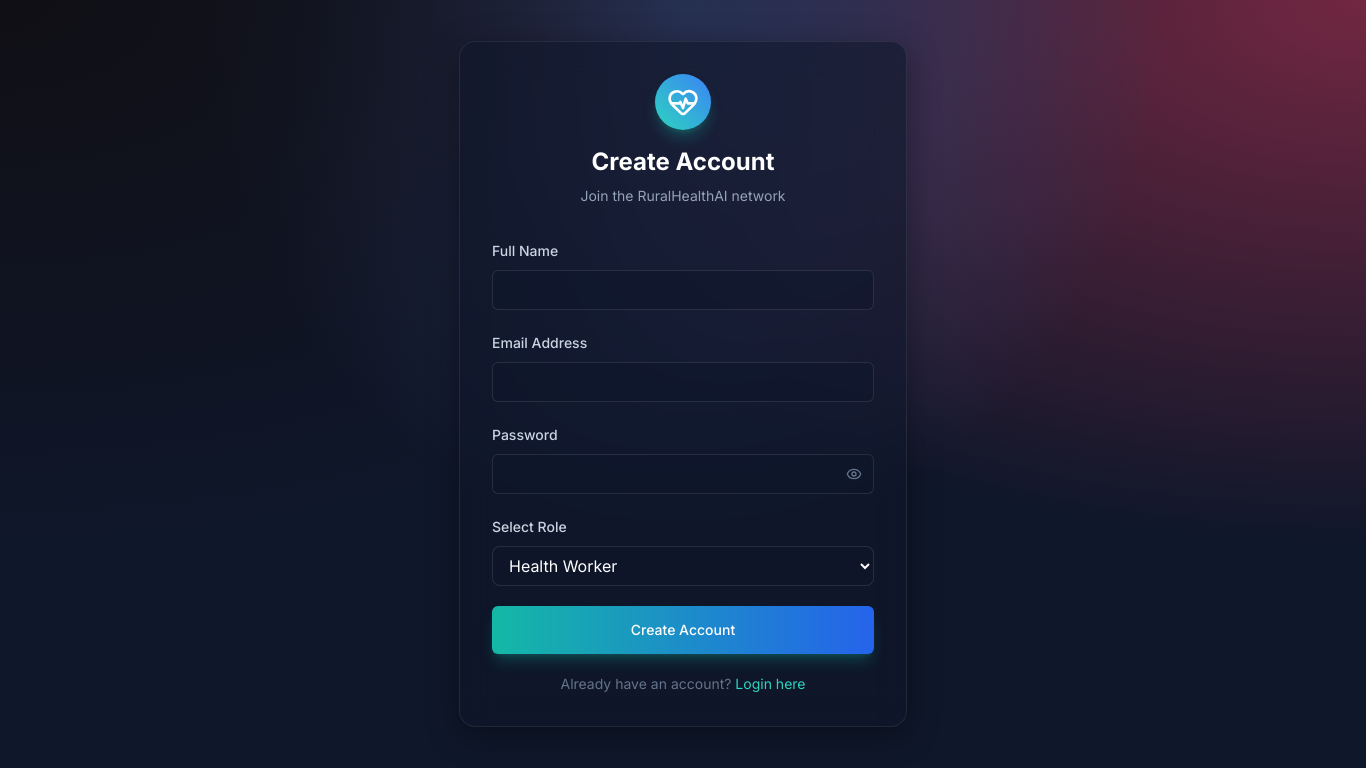
Test case: RegisterPage › shows error message on duplicate email registration
The width and height of the screenshot is (1366, 768).
Type "Existing User" into the field labelled "Full Name" at (683,290), box left=492, top=270, right=874, bottom=310
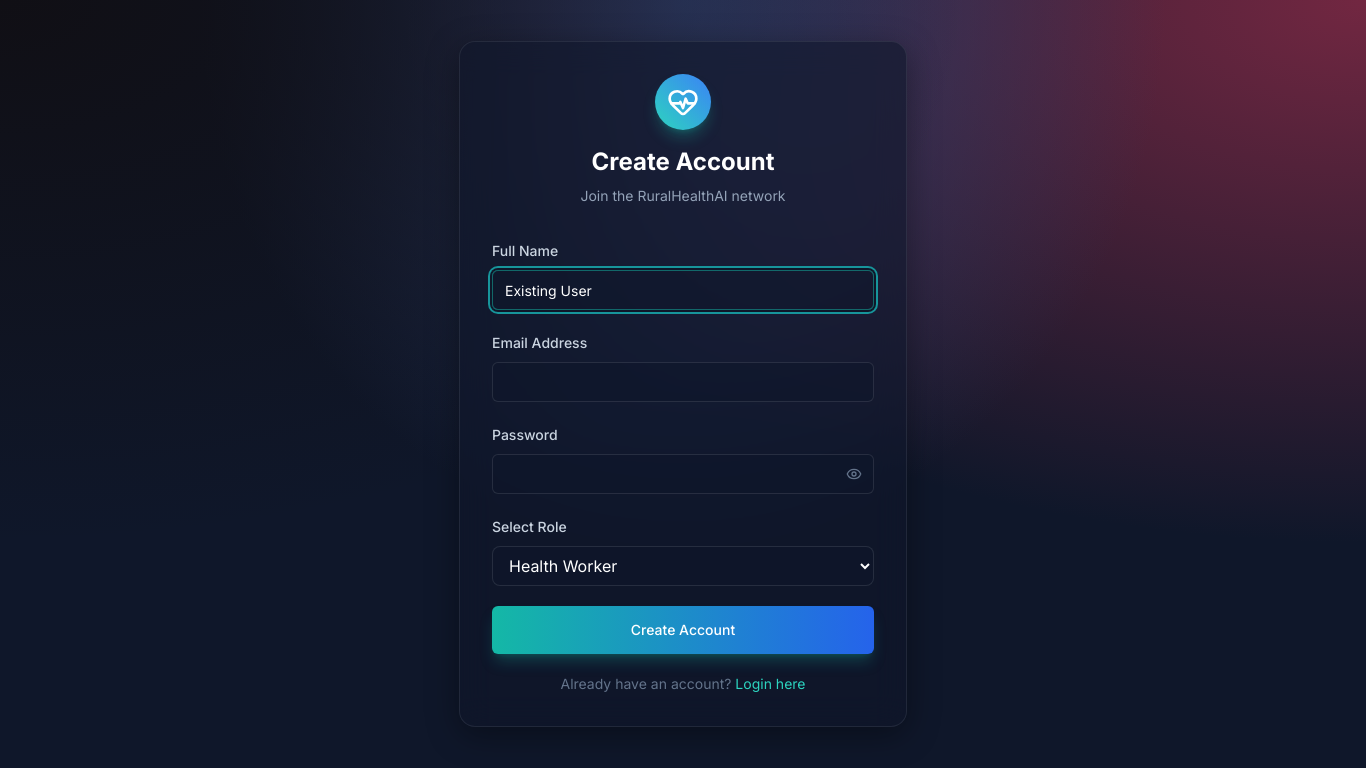
Type "existing@example.com" into the field labelled "Email Address" at (683,382), box left=492, top=362, right=874, bottom=402
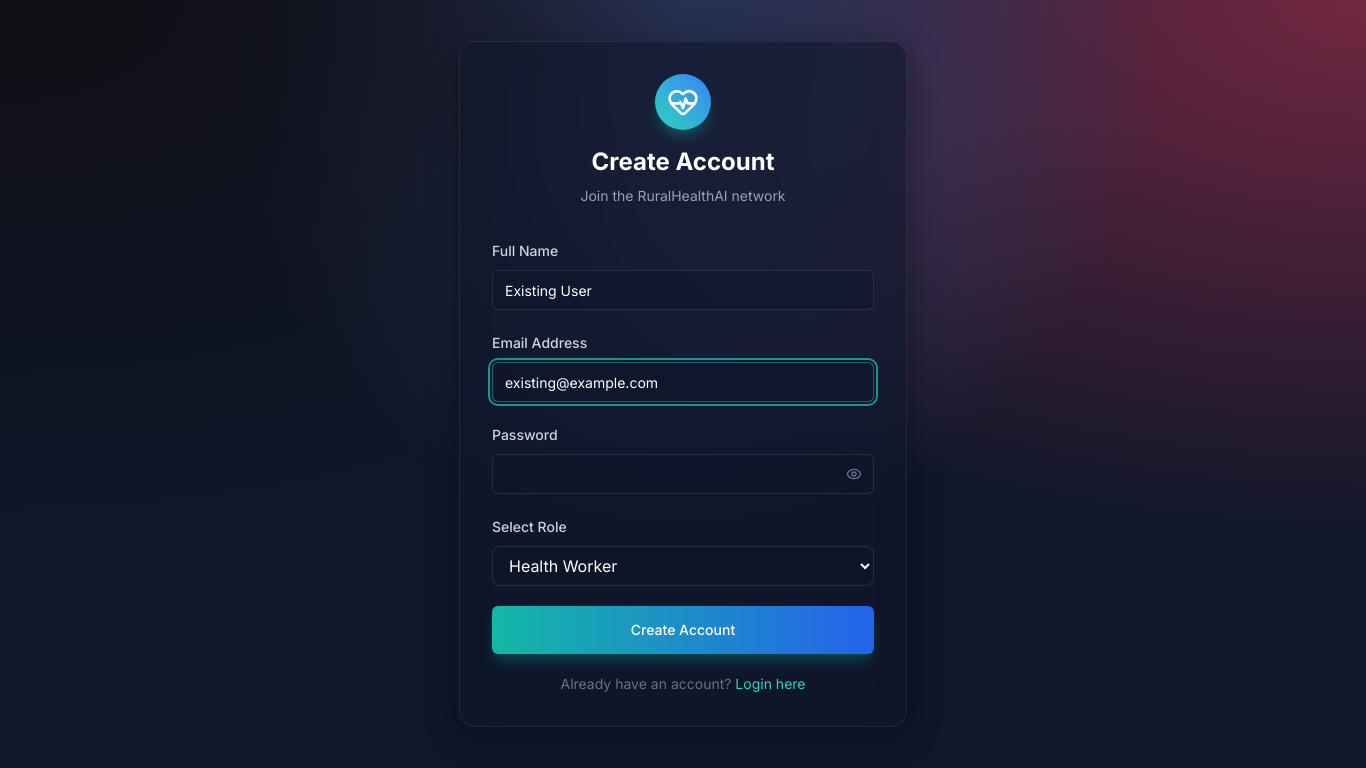
Type "password123" into the password field labelled "Password" at (683,474), box left=492, top=454, right=874, bottom=494
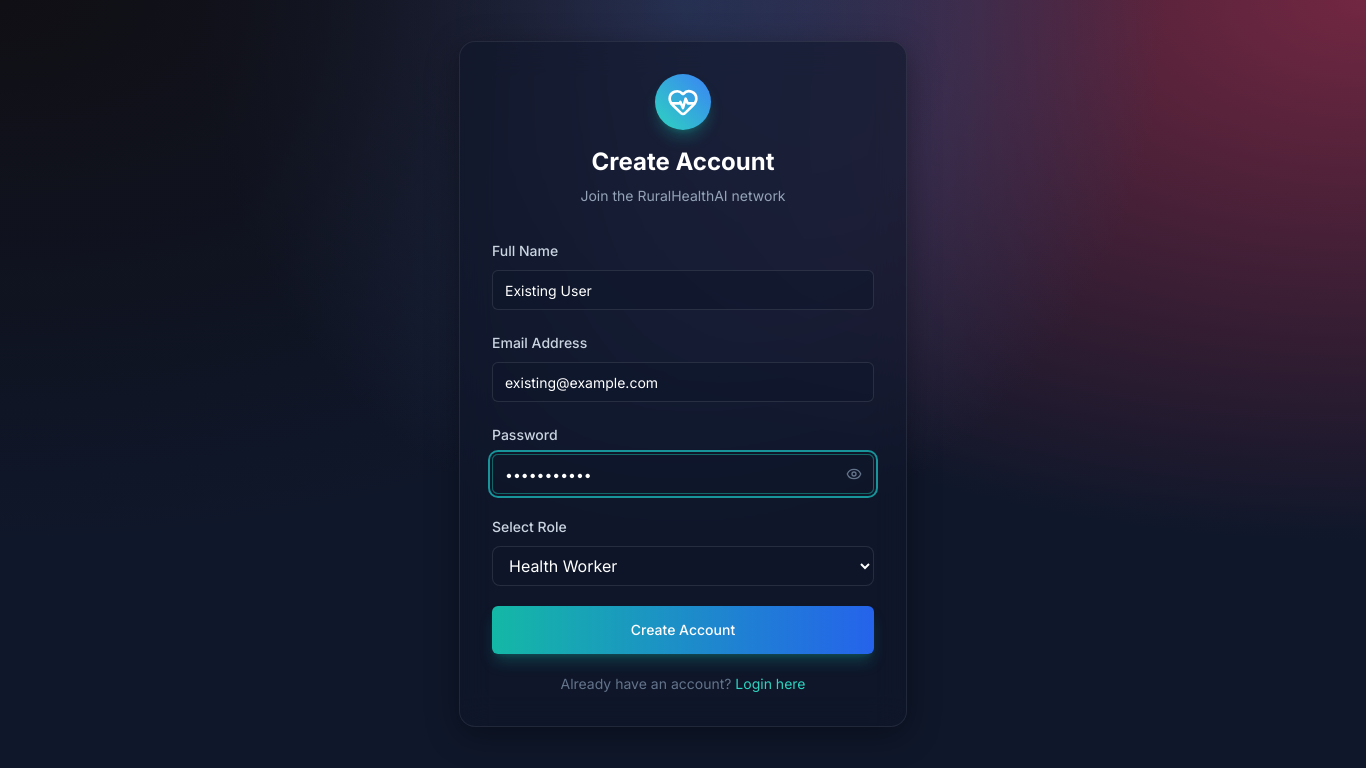
Click the button "Create Account" at (683,630), box left=492, top=606, right=874, bottom=654
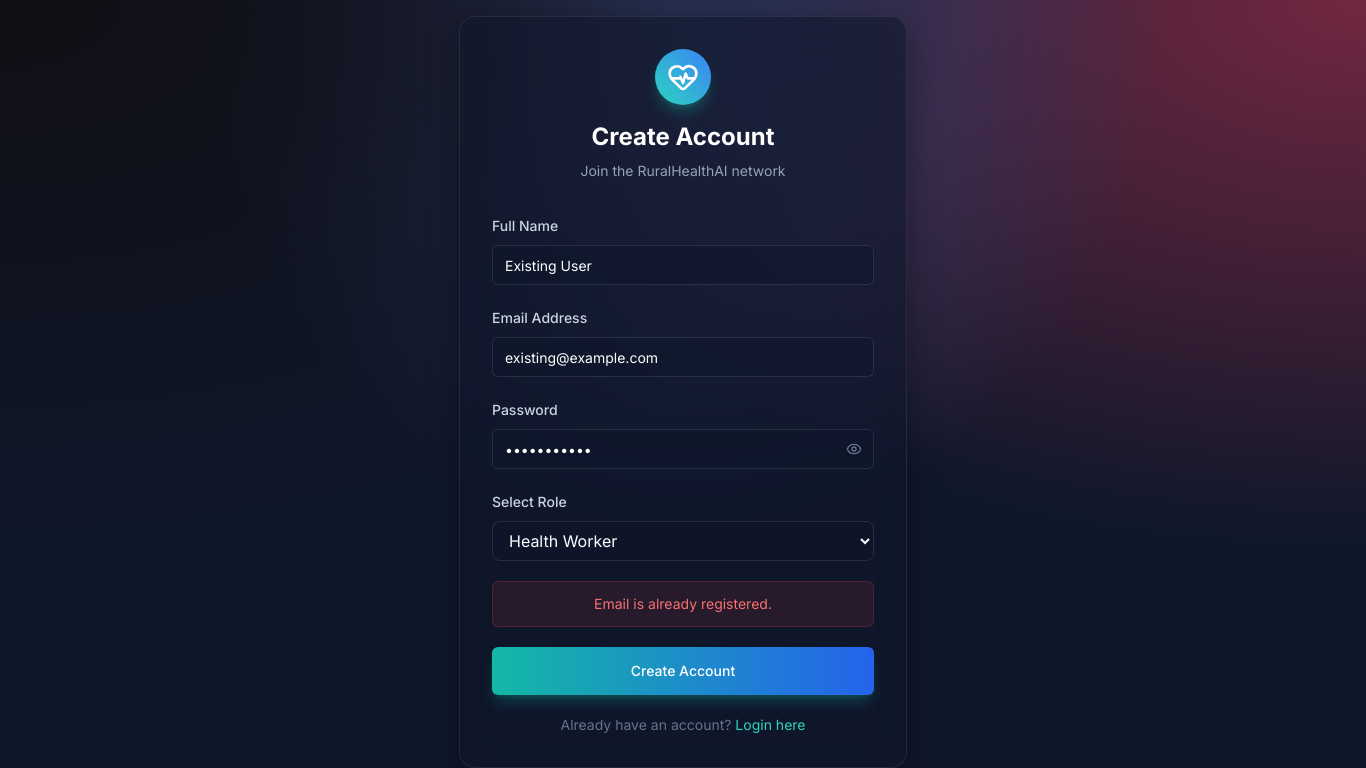
Result: the text "Email is already registered." is shown at left=492, top=581, right=874, bottom=627
